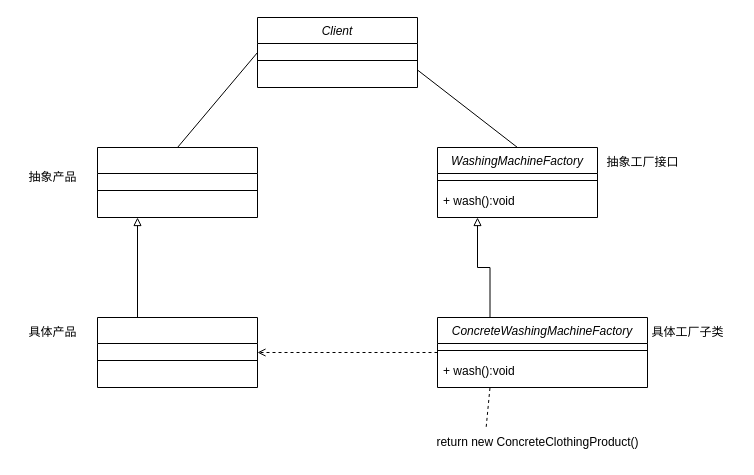
The diagram is 754 pixels wide and 475 high, and some of its shapes have lost their labels. The shapes that lost their labels are listed below. From the top down, each one's centre as x and y in pixels, then its label:
At pixel 177 182: "ClothingProduct".
At pixel 177 352: "ConcreteClothingProduct".
